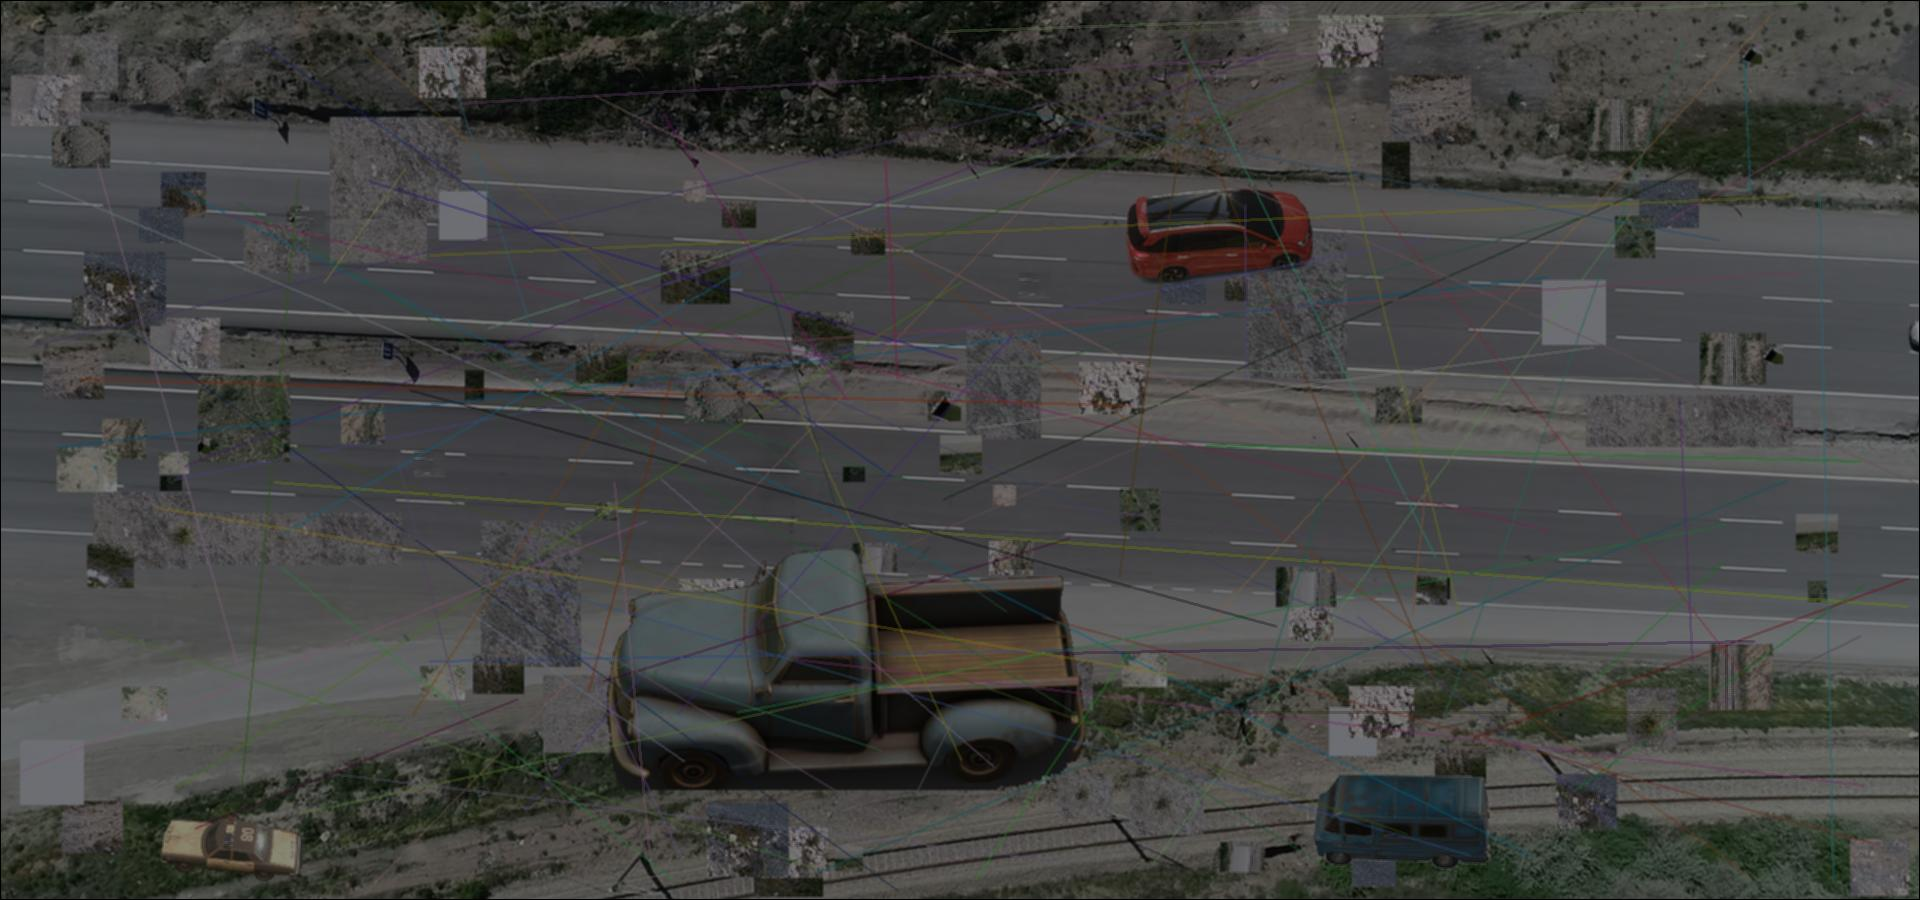arac: (605, 549, 1085, 790), (1122, 180, 1314, 290), (1314, 775, 1490, 871), (156, 809, 306, 891)
